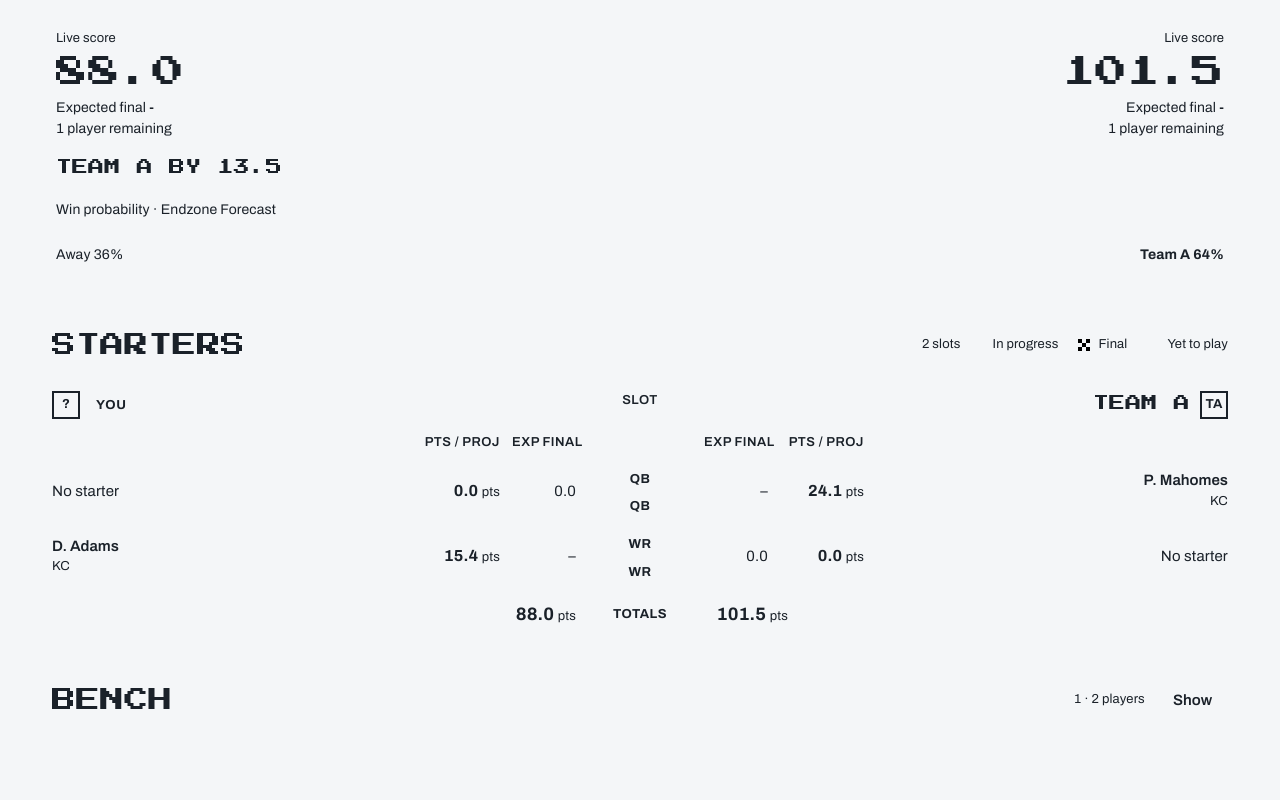
Test: an away viewer sees their own Team first on the strip, the Slot comparison and the Bench card
This screenshot has width=1280, height=800.
(page scrolled)
Expected: the element with test id "slot-comparison" is shown, [32, 313, 1248, 640]
What coordinates should you click on to do the following:
click the button with aria-label "Show benches"
I would click on:
 (1192, 700)
Its box is [1157, 678, 1228, 722].
(page scrolled)
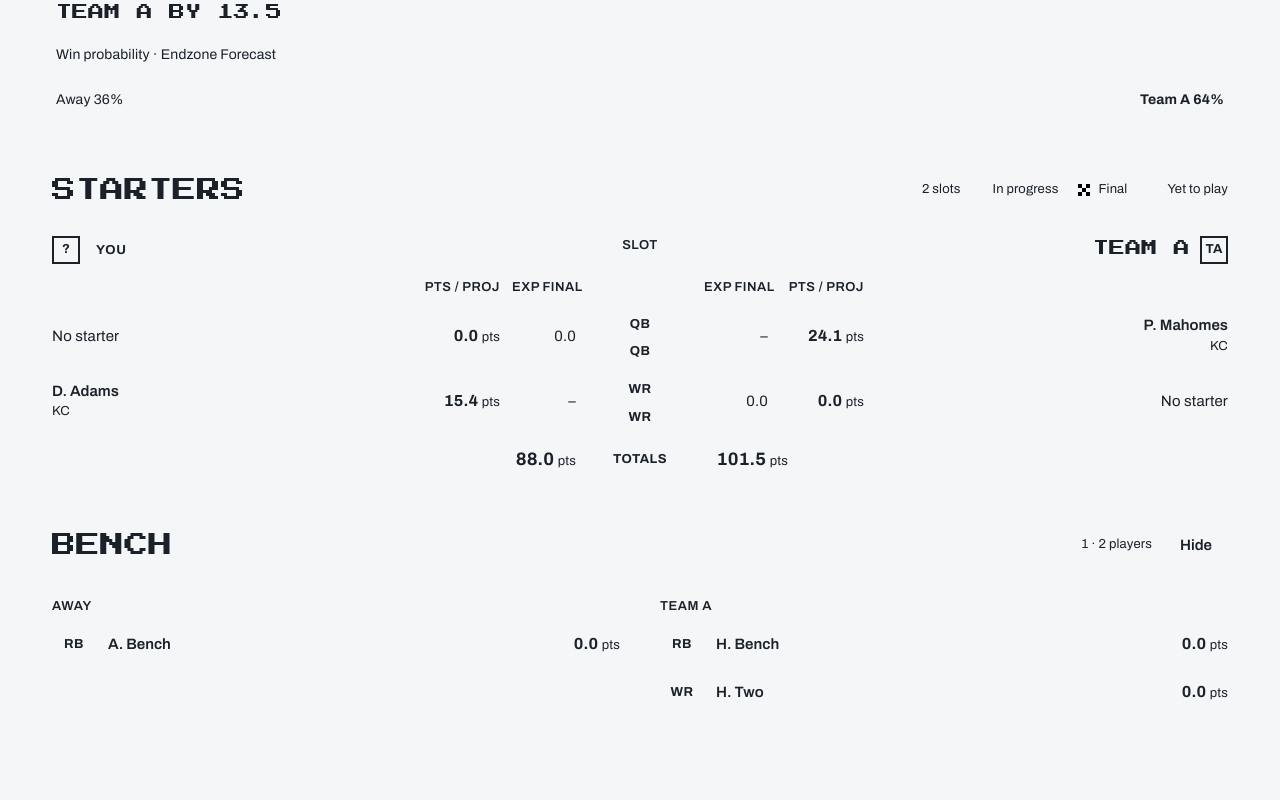
Expected: the button "A. Bench" is shown, [108, 622, 171, 666]
